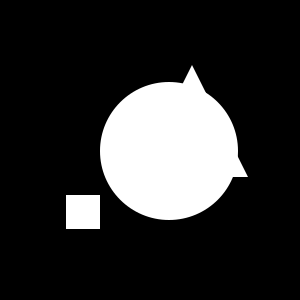circle: (66, 195, 100, 229)
rectangle: (100, 82, 238, 220)
triangle: (136, 65, 248, 177), (124, 99, 209, 184)
